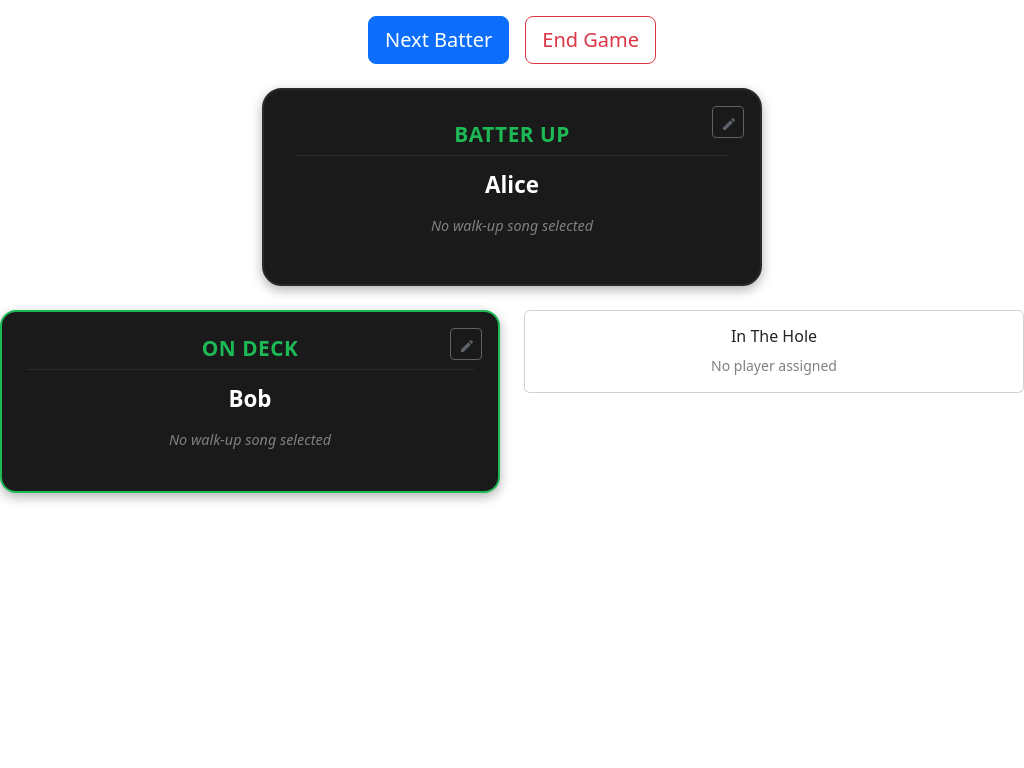
Test: GameMode › should show confirmation dialog when end game button is clicked
What coordinates should you click on to do the following:
click the button "End Game"
I would click on:
 (591, 40)
Its box is top-left (525, 16), bottom-right (656, 64).
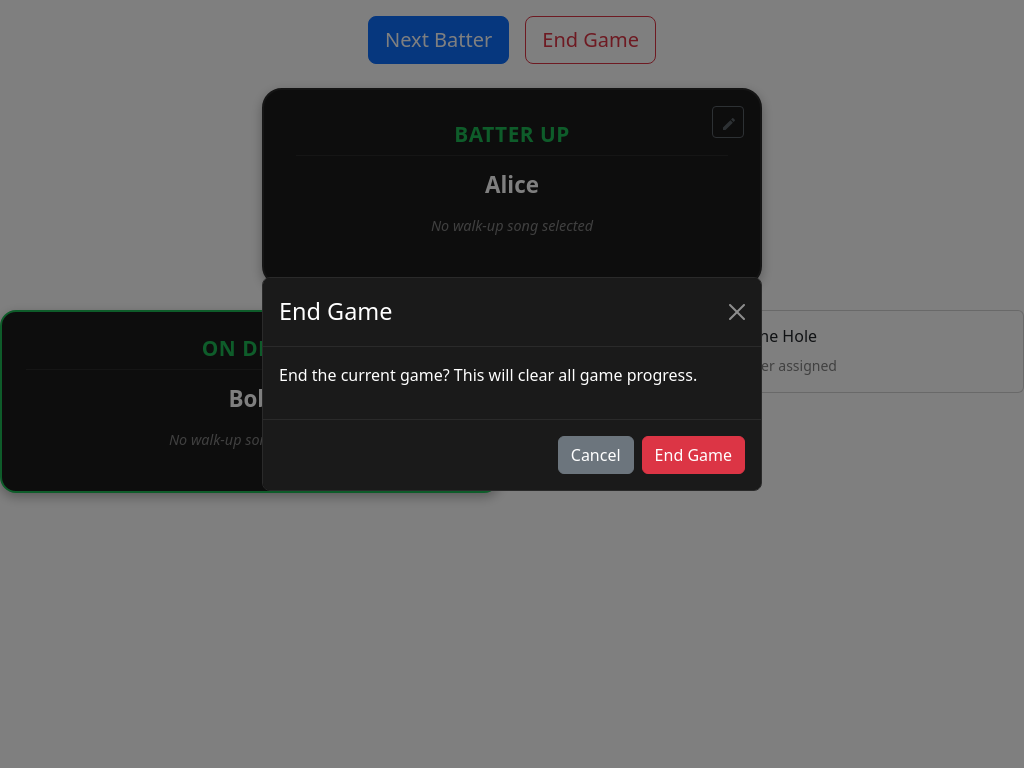
Expected: the number of buttons "End Game" is 2, top-left (525, 16), bottom-right (656, 64); top-left (642, 436), bottom-right (745, 474)
Result: the text "End the current game? This will clear all game progress." is shown at top-left (279, 363), bottom-right (745, 387)
Result: the button "Cancel" is shown at top-left (558, 436), bottom-right (634, 474)
